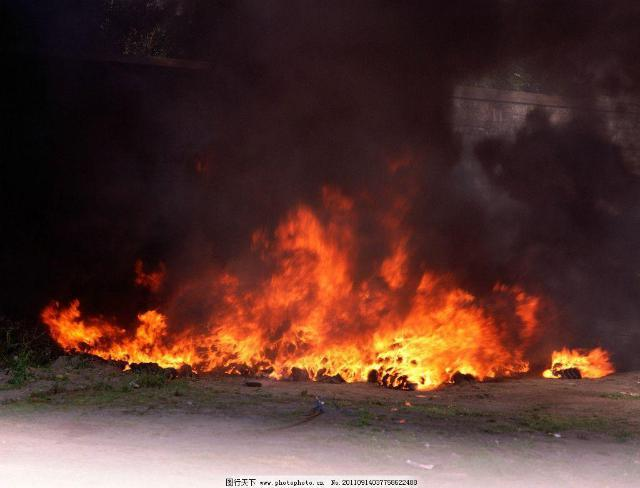fire: (186, 272, 467, 333), (166, 331, 367, 378), (256, 210, 356, 272), (441, 313, 525, 376), (365, 333, 441, 388), (98, 313, 162, 362), (377, 186, 409, 278), (44, 306, 98, 346), (542, 346, 610, 377), (496, 284, 542, 315), (132, 259, 162, 287), (321, 183, 351, 209)
